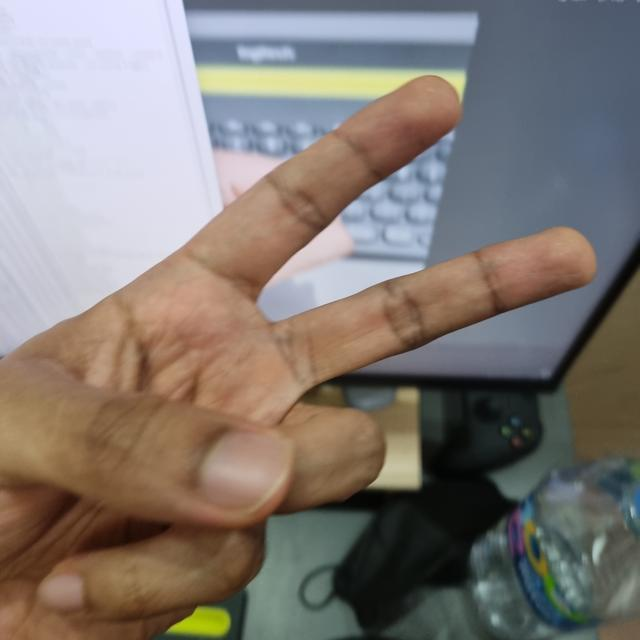Scissors: (0, 80, 601, 640)
